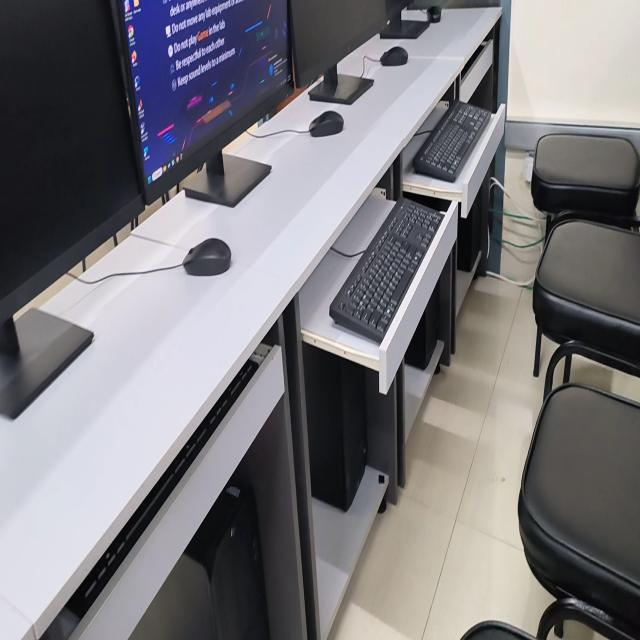Chair: (518, 383, 640, 639), (533, 213, 640, 382), (531, 133, 640, 219), (460, 620, 536, 639)
Cpu: (163, 485, 269, 639), (303, 343, 368, 511), (405, 284, 439, 370), (458, 193, 481, 271)
Keyboard: (330, 199, 444, 343), (413, 101, 491, 182)
Monitor: (0, 0, 145, 321), (111, 0, 294, 205), (290, 0, 391, 86)
Mouse: (183, 238, 231, 276), (308, 110, 344, 137), (380, 46, 408, 66), (427, 6, 441, 23)
